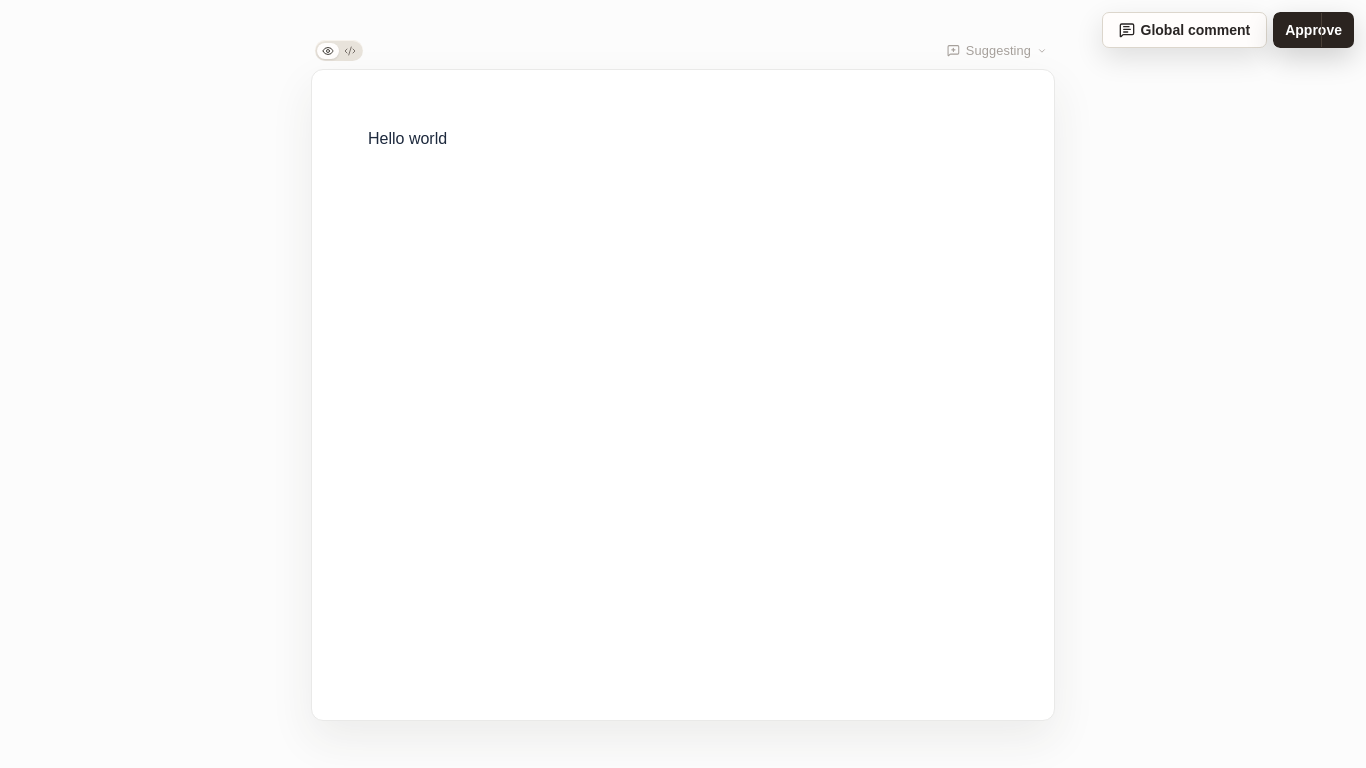
Test: review handoff watcher affordance › moves to Picked up when the tab channel reports the handoff acknowledged
This screenshot has width=1366, height=768.
Click the button "Approve": (1314,30) [1273,12,1354,48]
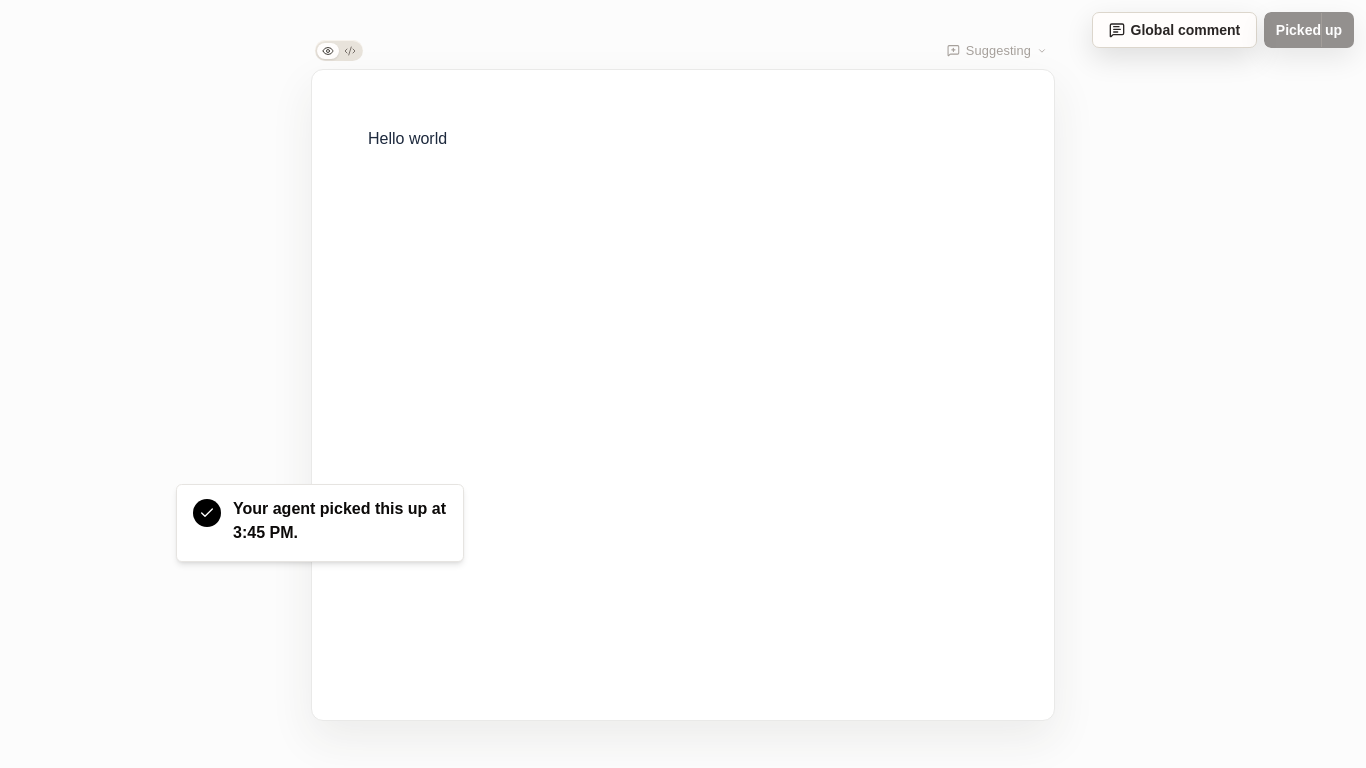
Check: the button "Picked up" is shown, box [1264,12,1354,48]
Check: the text "Your agent picked this up at" is shown, box [233,500,446,541]
